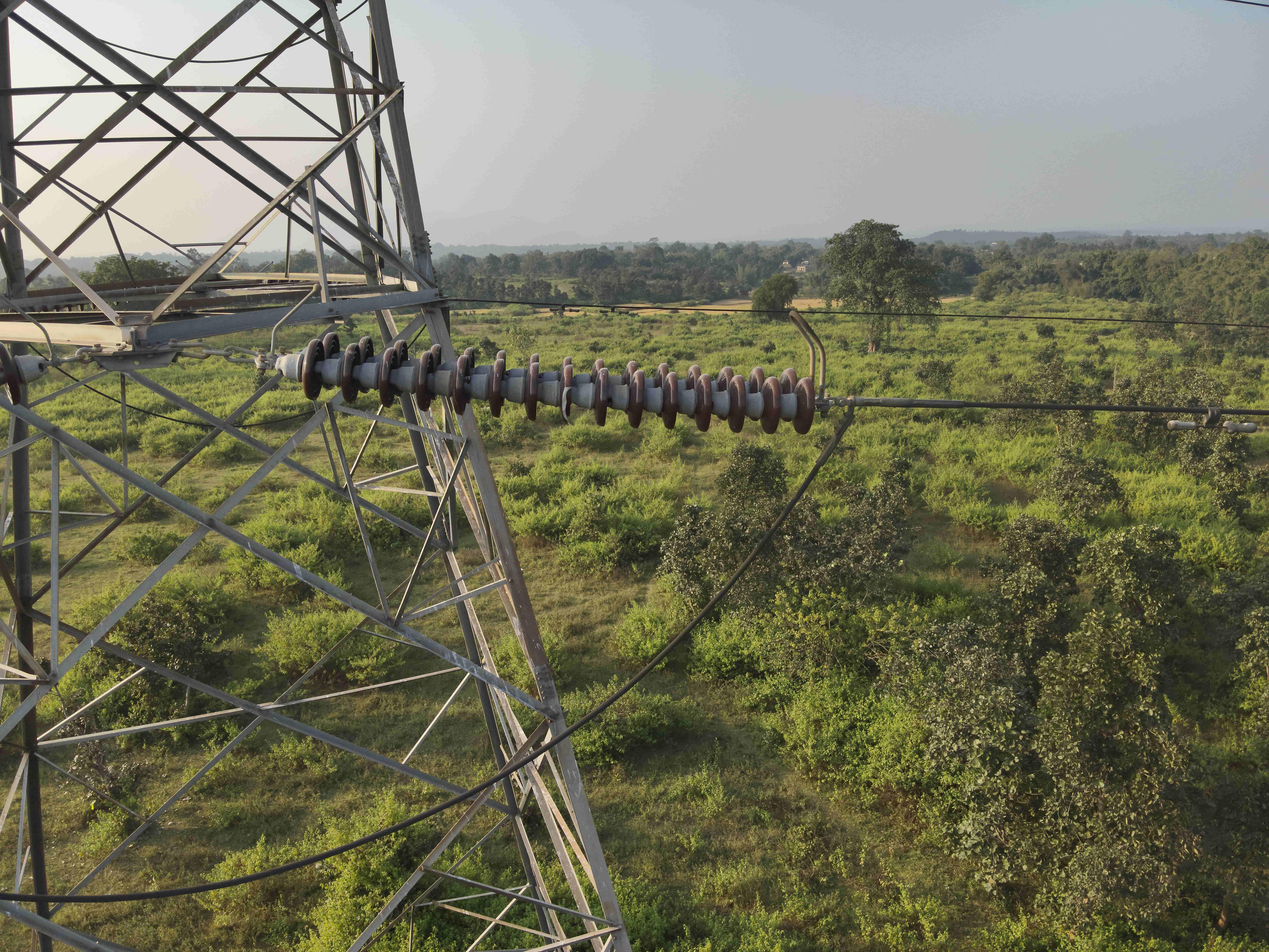broken_insulator: (559, 364, 574, 426)
